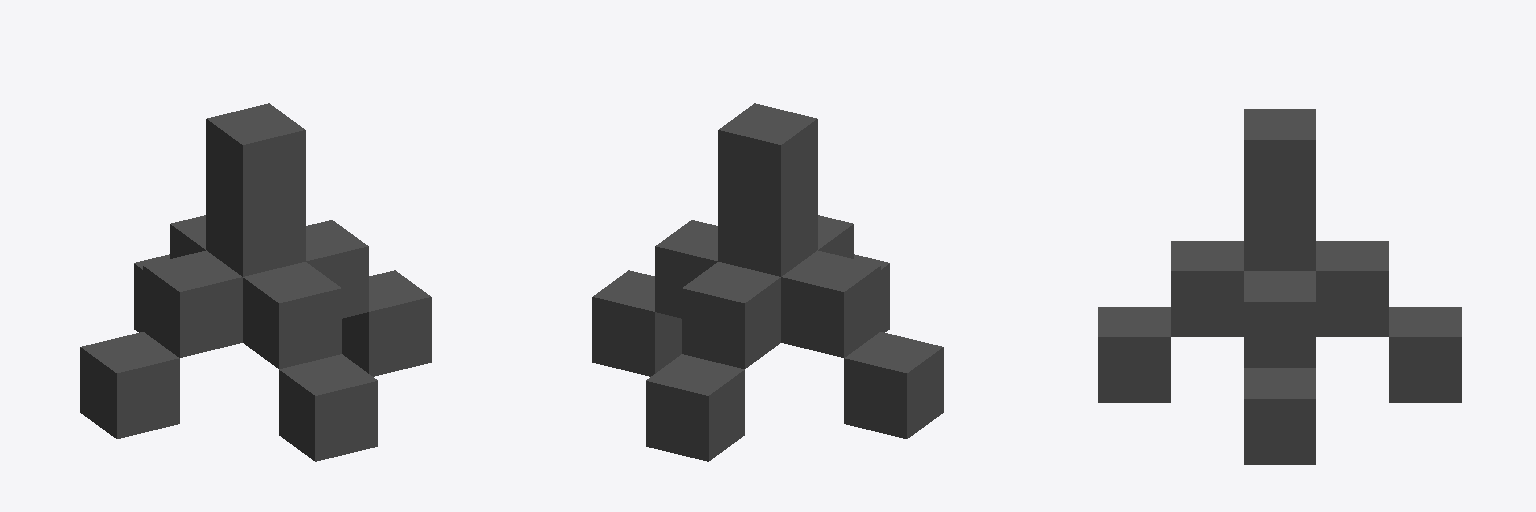
The picture shows the model from 3 angles: view 1: azimuth 30°, elevation 25°; view 2: azimuth 150°, elevation 25°; view 3: azimuth 270°, elevation 25°; orthographic projection.
Parts seen in each view (by area): view 1: object 1; view 2: object 1; view 3: object 1.
Part boxes in pixels (left/top/right/bottom): object 1: left=80, top=103, right=431, bottom=461; object 1: left=592, top=103, right=943, bottom=461; object 1: left=1098, top=109, right=1461, bottom=464.
Bounding box in the file's own units: 0.5 × 0.4 × 0.5.
1 materials, 1 textured.